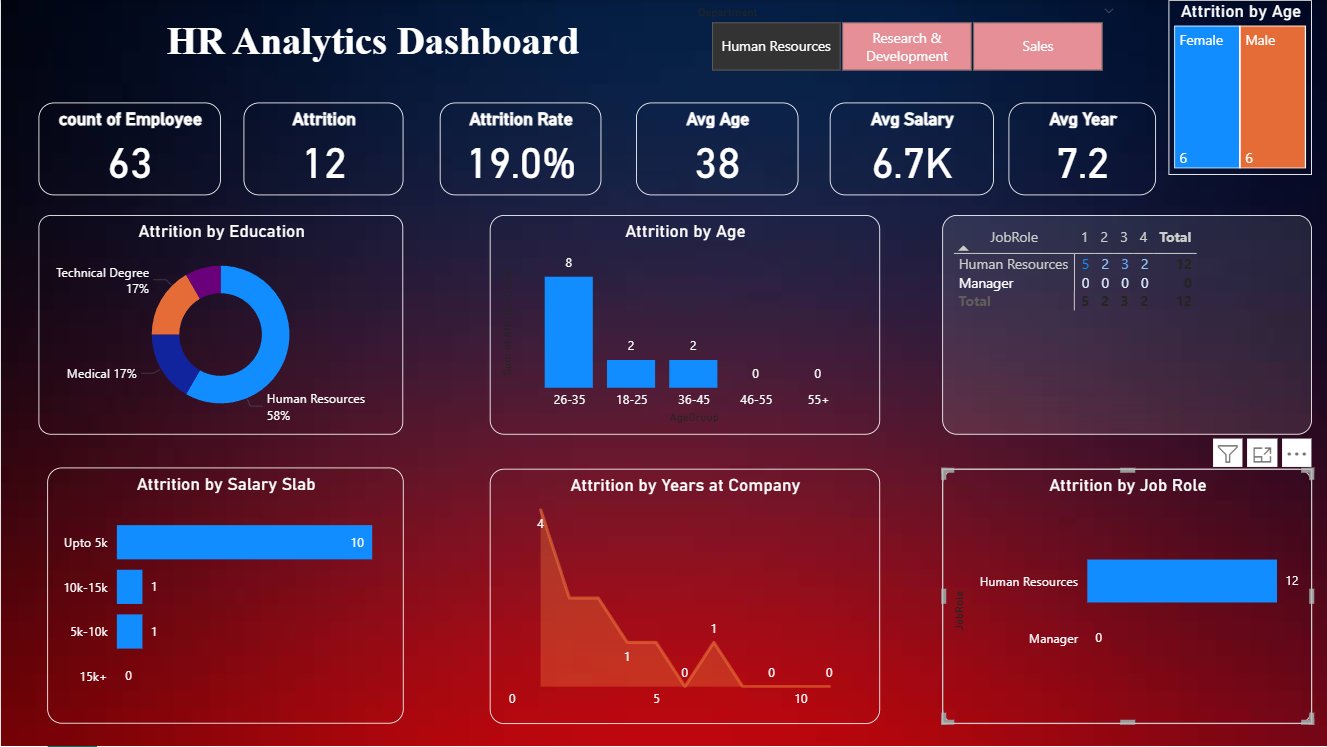

The dashboard page shown, as its layout file describes it:
{"tool":"powerbi","page":{"name":"Page 1","canvas":[1280,720],"ordinal":0},"visuals":[{"type":"card","title":"count of Employee","fields":{"Values":["CountNonNull(HR_Analytics.EmpID)"]},"box":[36.2,98.9,176.1,89.3],"z":0},{"type":"card","title":"Attrition ","fields":{"Values":["Sum(HR_Analytics.AttritionCount)"]},"box":[234,98.9,154.4,89.3],"z":1000},{"type":"card","title":"Avg  Age","fields":{"Values":["Avg(HR_Analytics.Age)"]},"box":[612.9,98.9,156.8,89.3],"z":2000},{"type":"card","title":"Attrition Rate","fields":{"Values":["HR_Analytics.AttritionRate"]},"box":[423.5,98.9,155.6,89.3],"z":3000},{"type":"card","title":"Avg Salary ","fields":{"Values":["Avg(HR_Analytics.MonthlyIncome)"]},"box":[799.9,98.9,158,89.3],"z":4000},{"type":"card","title":"Avg Year","fields":{"Values":["Avg(HR_Analytics.YearsAtCompany)"]},"box":[972.4,98.9,142.4,89.3],"z":5000},{"type":"donutChart","title":"Attrition by Education","fields":{"Category":["HR_Analytics.EducationField"],"Y":["Sum(HR_Analytics.AttritionCount)"]},"box":[36.2,207.5,352.3,212.3],"z":6000},{"type":"columnChart","title":"Attrition by Age","fields":{"Category":["HR_Analytics.AgeGroup"],"Y":["Sum(HR_Analytics.AttritionCount)"]},"box":[471.7,207.5,376.4,212.3],"z":7000},{"type":"pivotTable","fields":{"Rows":["HR_Analytics.JobRole"],"Columns":["HR_Analytics.JobSatisfaction"],"Values":["Sum(HR_Analytics.AttritionCount)"]},"box":[908.4,207.5,357.1,212.3],"z":8000},{"type":"barChart","title":"Attrition by Salary Slab","fields":{"Category":["HR_Analytics.SalarySlab"],"Y":["Sum(HR_Analytics.AttritionCount)"]},"box":[44.6,451.2,343.8,247.3],"z":9000},{"type":"barChart","title":"Attrition by Job Role","fields":{"Category":["HR_Analytics.JobRole"],"Y":["Sum(HR_Analytics.AttritionCount)"]},"box":[908.4,452.4,357.1,246.1],"z":10000},{"type":"areaChart","title":"Attrition by Years at Company ","fields":{"Category":["HR_Analytics.YearsAtCompany"],"Y":["Sum(HR_Analytics.AttritionCount)"]},"box":[471.7,452.4,376.4,246.1],"z":11000},{"type":"treemap","title":"Attrition by Age","fields":{"Group":["HR_Analytics.Gender"],"Values":["Sum(HR_Analytics.AttritionCount)"]},"box":[1126.8,0,138.7,168.9],"z":12000},{"type":"slicer","fields":{"Values":["HR_Analytics.Department"]},"box":[659.9,0,427.1,74.8],"z":13000},{"type":"textbox","box":[36.2,13.3,655.1,61.5],"z":13001}]}

Visuals, with their boxes in screenshot pixels (x1, y1, x2, y2), scaled from the page's 1280x720 canvas onto the 1327x747 screenshot:
"count of Employee" card: locate(38, 103, 220, 195)
"Attrition " card: locate(243, 103, 403, 195)
"Avg  Age" card: locate(635, 103, 798, 195)
"Attrition Rate" card: locate(439, 103, 600, 195)
"Avg Salary " card: locate(829, 103, 993, 195)
"Avg Year" card: locate(1008, 103, 1156, 195)
"Attrition by Education" donutChart: locate(38, 215, 403, 436)
"Attrition by Age" columnChart: locate(489, 215, 879, 436)
pivotTable - HR_Analytics.JobRole x HR_Analytics.JobSatisfaction: locate(942, 215, 1312, 436)
"Attrition by Salary Slab" barChart: locate(46, 468, 403, 725)
"Attrition by Job Role" barChart: locate(942, 469, 1312, 725)
"Attrition by Years at Company " areaChart: locate(489, 469, 879, 725)
"Attrition by Age" treemap: locate(1168, 0, 1312, 175)
slicer - HR_Analytics.Department: locate(684, 0, 1127, 78)
textbox: locate(38, 14, 717, 78)
